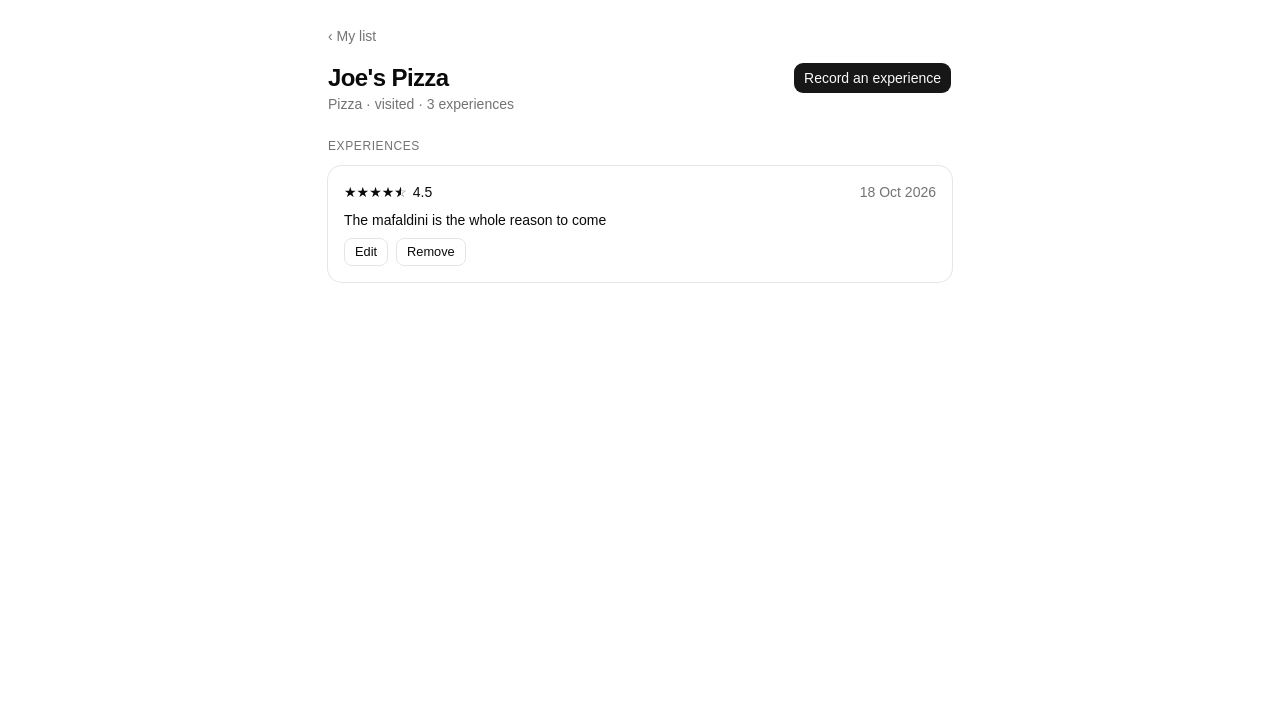
changing an experience › opens on the experience's own values
The image size is (1280, 720).
Click the button "Edit" at [366, 252], box [344,238,388,266]
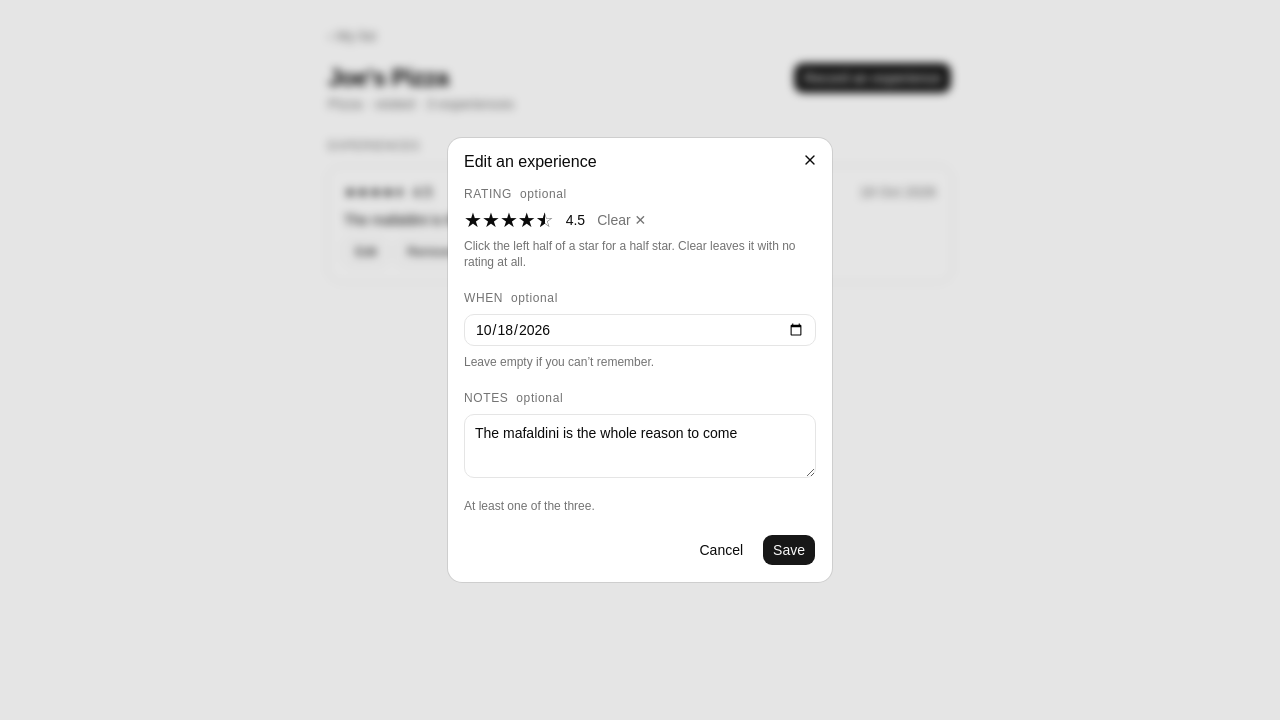
Result: the heading "Edit an experience" is shown at [464,153,596,170]
Result: the radio button named "4.5 stars" is checked at [536,210,545,230]
Result: the date field labelled "When optional" holds "2026-10-18" at [464,314,816,346]
